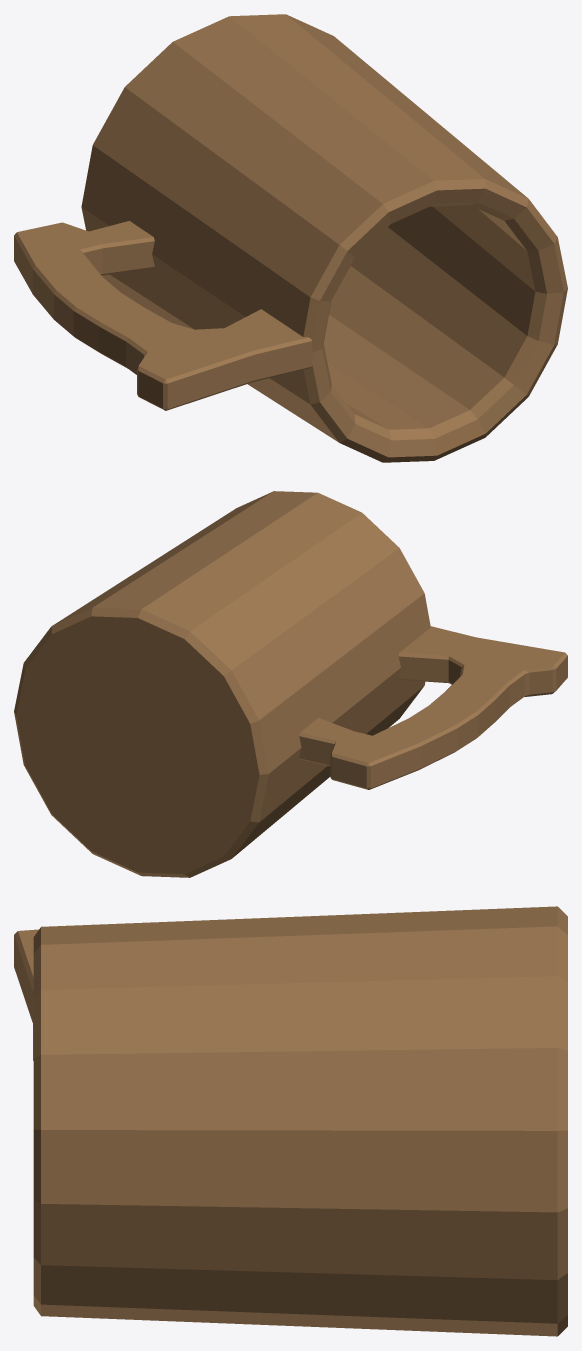
File: Mug.fbx
The picture shows the model from 3 angles, top to bottom: view 1: azimuth 30°, elevation 25°; view 2: azimuth 150°, elevation 25°; view 3: azimuth 270°, elevation 25°; orthographic projection. The views are drawn at different scales.
Visible parts, largest first — view 1: chope; view 2: chope; view 3: chope.
Part boxes in pixels (x1,y1,x2,y2): chope: (14, 14, 567, 462); chope: (14, 491, 567, 877); chope: (14, 906, 567, 1336).
Bounding box in the file's own units: 25.13 × 17.12 × 22.03.
